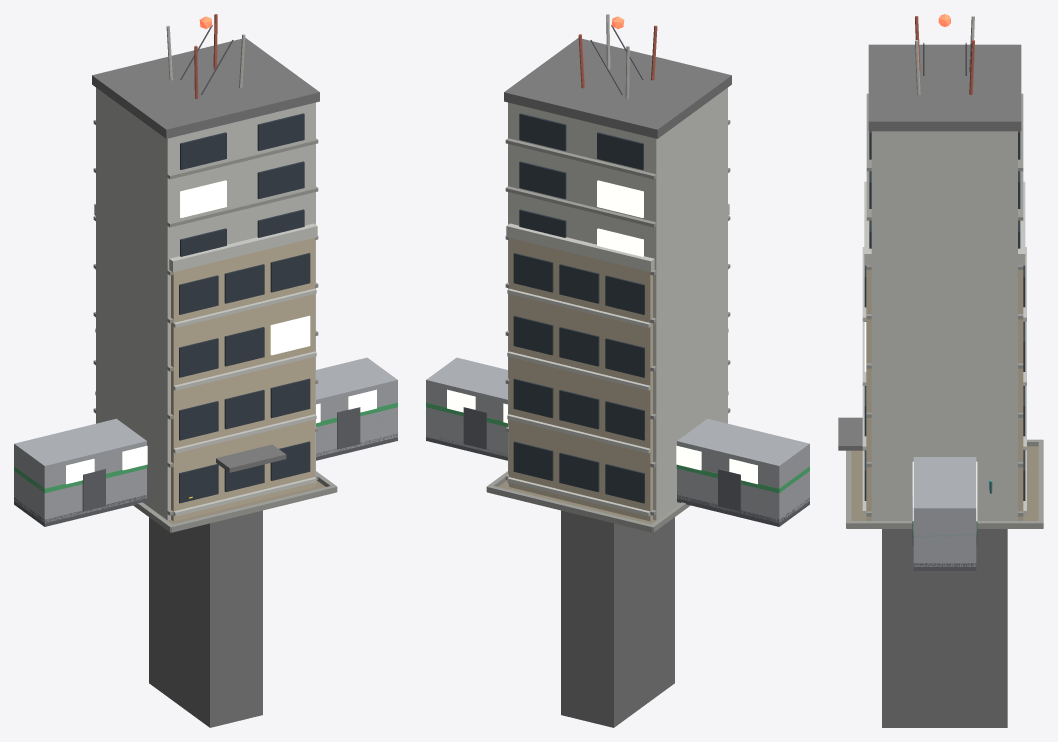
Rendered from map.glb.
The picture shows the model from 3 angles, left to right: view 1: azimuth 30°, elevation 25°; view 2: azimuth 150°, elevation 25°; view 3: azimuth 270°, elevation 25°; orthographic projection. The views are drawn at different scales.
Visible parts, largest first — view 1: apt-seg, school-seg, pier, train-car, playground, tower; view 2: apt-seg, school-seg, pier, train-car, playground, tower; view 3: apt-seg, pier, train-car, school-seg, playground, tower.
Boxes of the visible parts, x1=… form: apt-seg: x1=92, y1=38, x2=319, y2=520; school-seg: x1=94, y1=203, x2=317, y2=521; pier: x1=149, y1=510, x2=262, y2=727; train-car: x1=14, y1=357, x2=397, y2=526; playground: x1=133, y1=471, x2=337, y2=532; tower: x1=166, y1=14, x2=245, y2=98; apt-seg: x1=504, y1=38, x2=731, y2=520; school-seg: x1=506, y1=203, x2=729, y2=521; pier: x1=561, y1=510, x2=674, y2=727; train-car: x1=426, y1=357, x2=809, y2=526; playground: x1=486, y1=471, x2=690, y2=532; tower: x1=578, y1=14, x2=657, y2=98; apt-seg: x1=838, y1=44, x2=1023, y2=520; pier: x1=882, y1=529, x2=1007, y2=727; train-car: x1=912, y1=457, x2=977, y2=570; school-seg: x1=862, y1=181, x2=1026, y2=520; playground: x1=846, y1=439, x2=1043, y2=528; tower: x1=915, y1=14, x2=974, y2=94.
Bounding box in the file's own units: 20 × 36.95 × 9.83.
